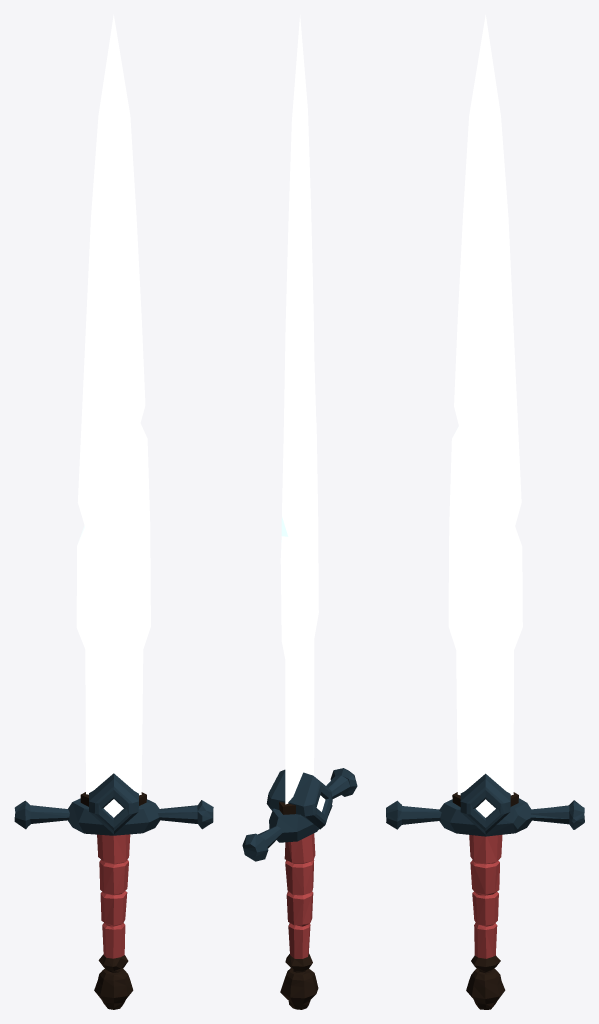
Rendered from SFFA_Weapon_Sword_Runical_005.fbx.
3 views of the same model, side by side, from view 1: azimuth 90°, elevation 25°; view 2: azimuth 150°, elevation 25°; view 3: azimuth 270°, elevation 25° (orthographic).
Parts seen in each view (by area): view 1: SFFA_Weapon_Sword_Runical_005; view 2: SFFA_Weapon_Sword_Runical_005; view 3: SFFA_Weapon_Sword_Runical_005.
Part boxes in pixels (x1,y1,x2,y2): SFFA_Weapon_Sword_Runical_005: [14, 14, 213, 1009]; SFFA_Weapon_Sword_Runical_005: [242, 15, 357, 1009]; SFFA_Weapon_Sword_Runical_005: [386, 15, 584, 1009].
Size of the model in its own units: 6.02 by 109 by 19.82.
